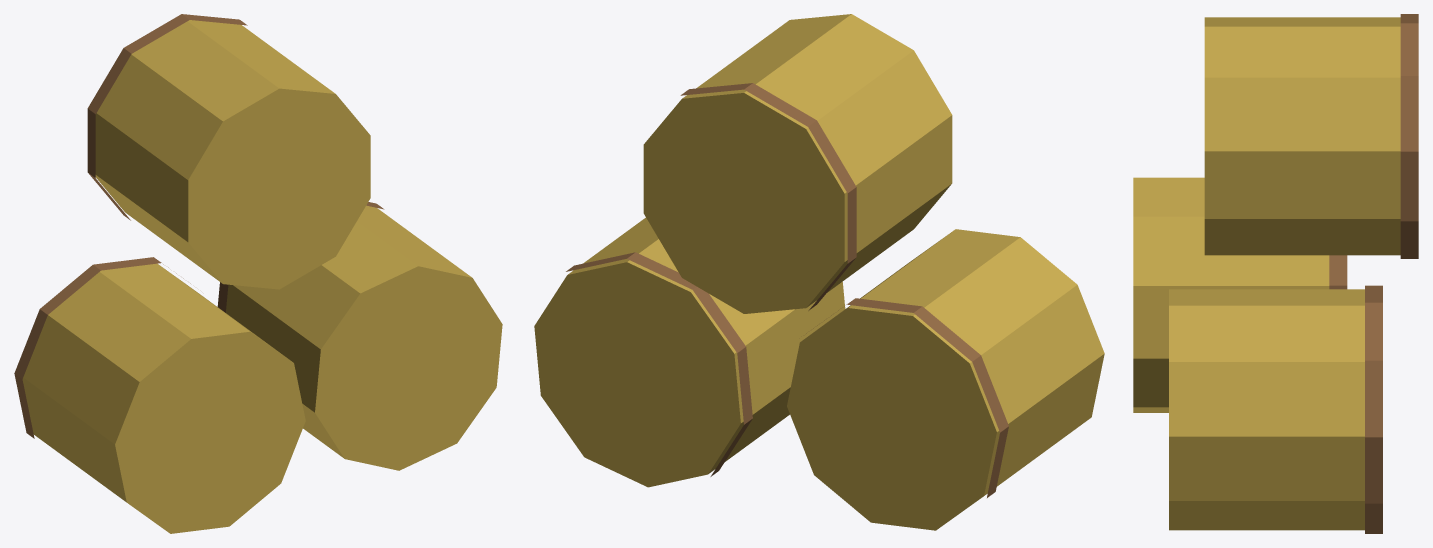
File: prop_hay.glb
3 renders of one model, left to right at view 1: azimuth 30°, elevation 25°; view 2: azimuth 150°, elevation 25°; view 3: azimuth 270°, elevation 25°, orthographic. The views are drawn at different scales.
Visible parts, largest first — view 1: prop_hay; view 2: prop_hay; view 3: prop_hay.
Part boxes in pixels (box(x1,y1,x2,y2)): prop_hay: box(14, 14, 502, 533); prop_hay: box(534, 14, 1104, 530); prop_hay: box(1133, 14, 1418, 533).
Size of the model in its own units: 0.7249 by 0.6791 by 0.4.
